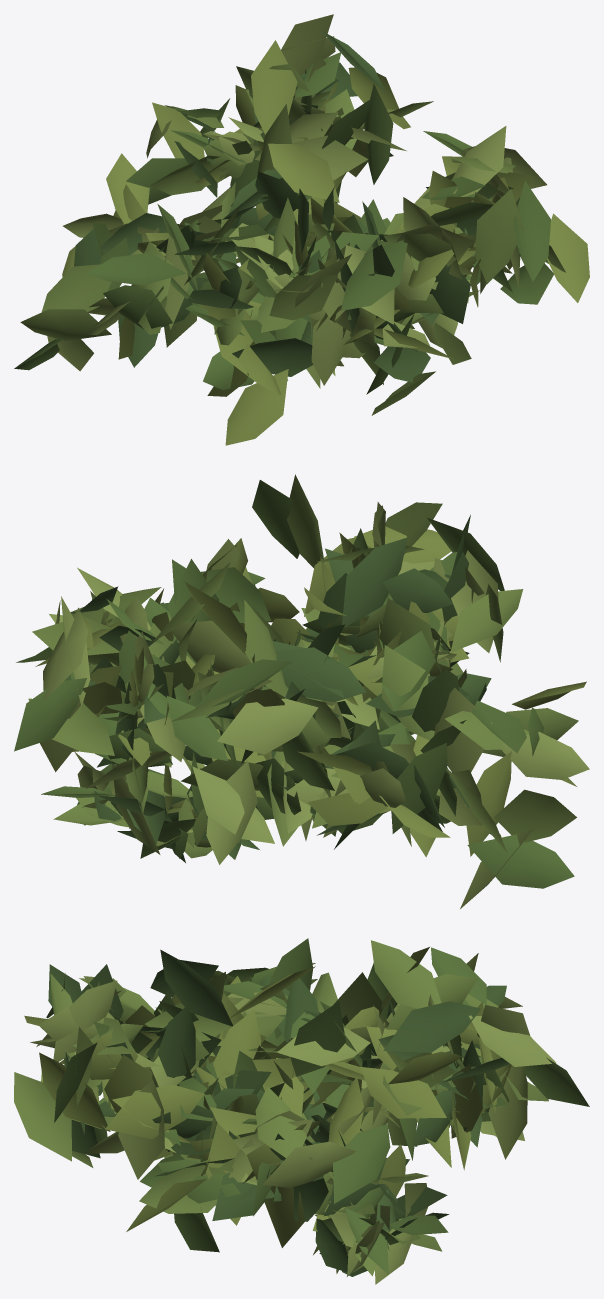
Rendered from coastal_leaf_shrub.glb.
The picture shows the model from 3 angles, top to bottom: view 1: azimuth 30°, elevation 25°; view 2: azimuth 150°, elevation 25°; view 3: azimuth 270°, elevation 25°; orthographic projection. The views are drawn at different scales.
Parts seen in each view (by area): view 1: Complete_leaf_canopy_2200; view 2: Complete_leaf_canopy_2200; view 3: Complete_leaf_canopy_2200.
Boxes of the visible parts, x1=… form: Complete_leaf_canopy_2200: x1=14, y1=14, x2=589, y2=445; Complete_leaf_canopy_2200: x1=14, y1=474, x2=589, y2=908; Complete_leaf_canopy_2200: x1=14, y1=938, x2=589, y2=1284.
Size of the model in its own units: 1.58 by 0.8697 by 1.51.
